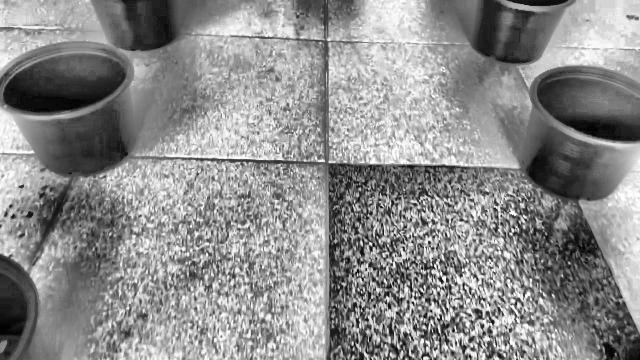pot: (0, 41, 138, 176), (522, 66, 640, 202)
